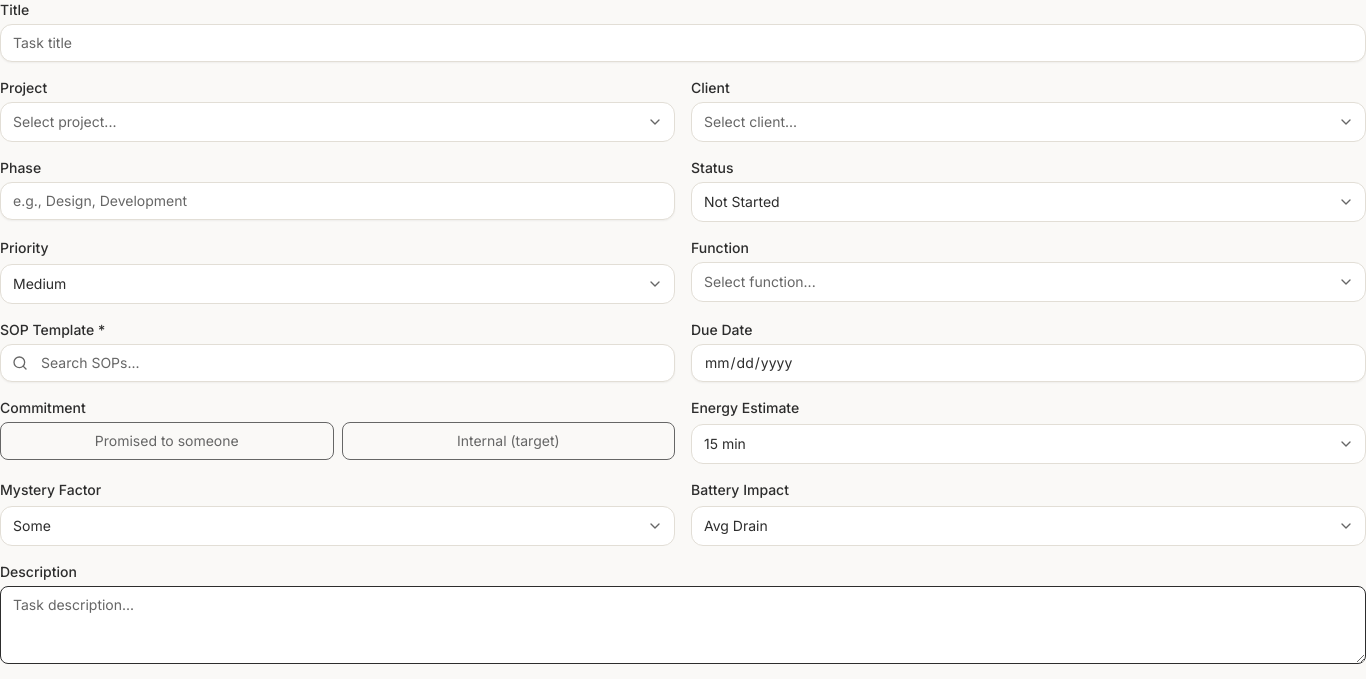
Scenario: TaskForm › SOP search functionality › allows clearing SOP selection
The image size is (1366, 679).
# Select SOP
Focus the field with placeholder "Search SOPs...". click: (338, 363)
box: [0,344,675,382]
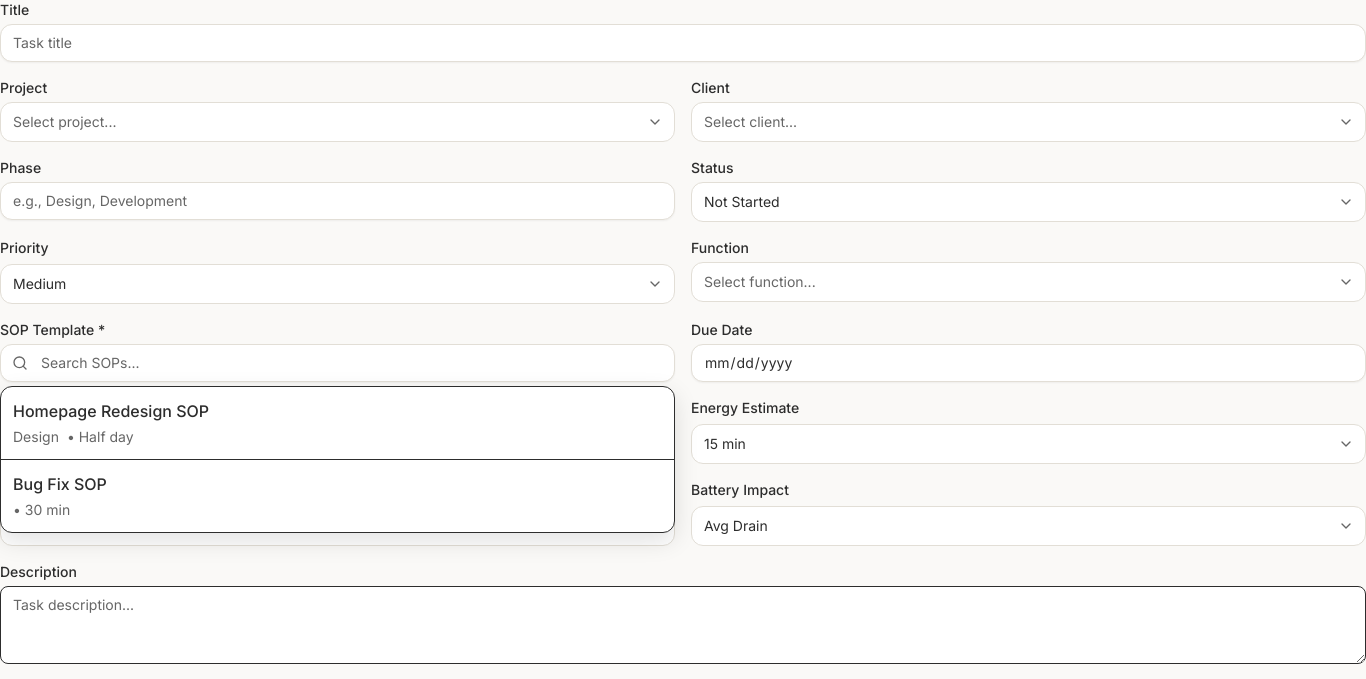
Result: the text "Homepage Redesign SOP" is shown
Click the text "Homepage Redesign SOP". click: (111, 411)
box: [13,401,209,421]
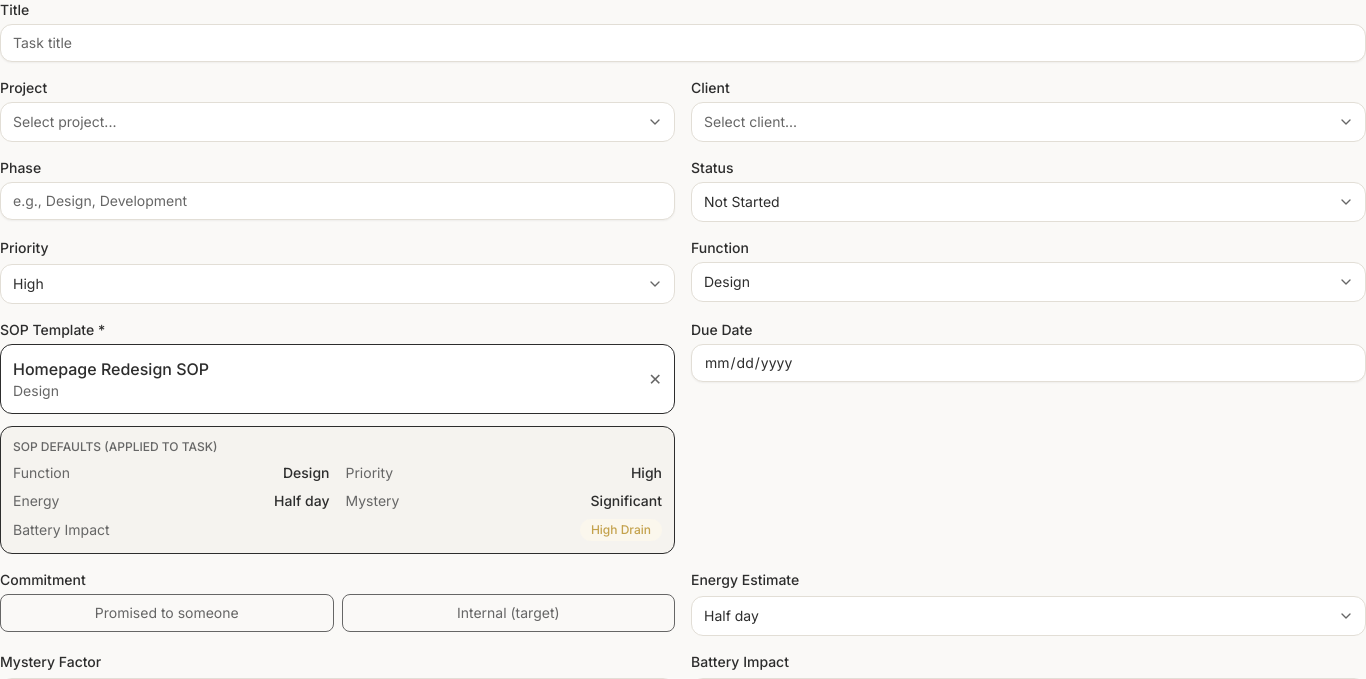
Result: the text "Homepage Redesign SOP" is shown at [13,357,209,381]
# Clear it
Click the button "✕". click: (655, 379)
box: [649,367,662,391]
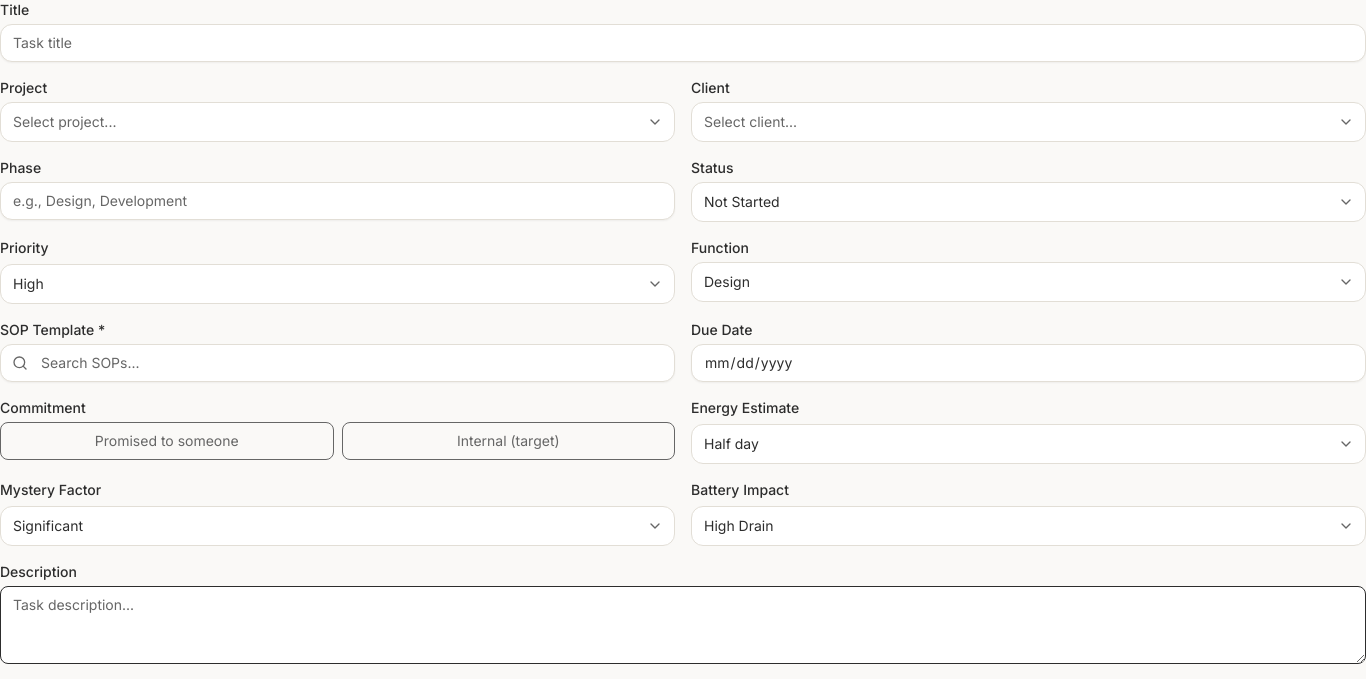
Result: the field with placeholder "Search SOPs..." is shown at [0,344,675,382]
